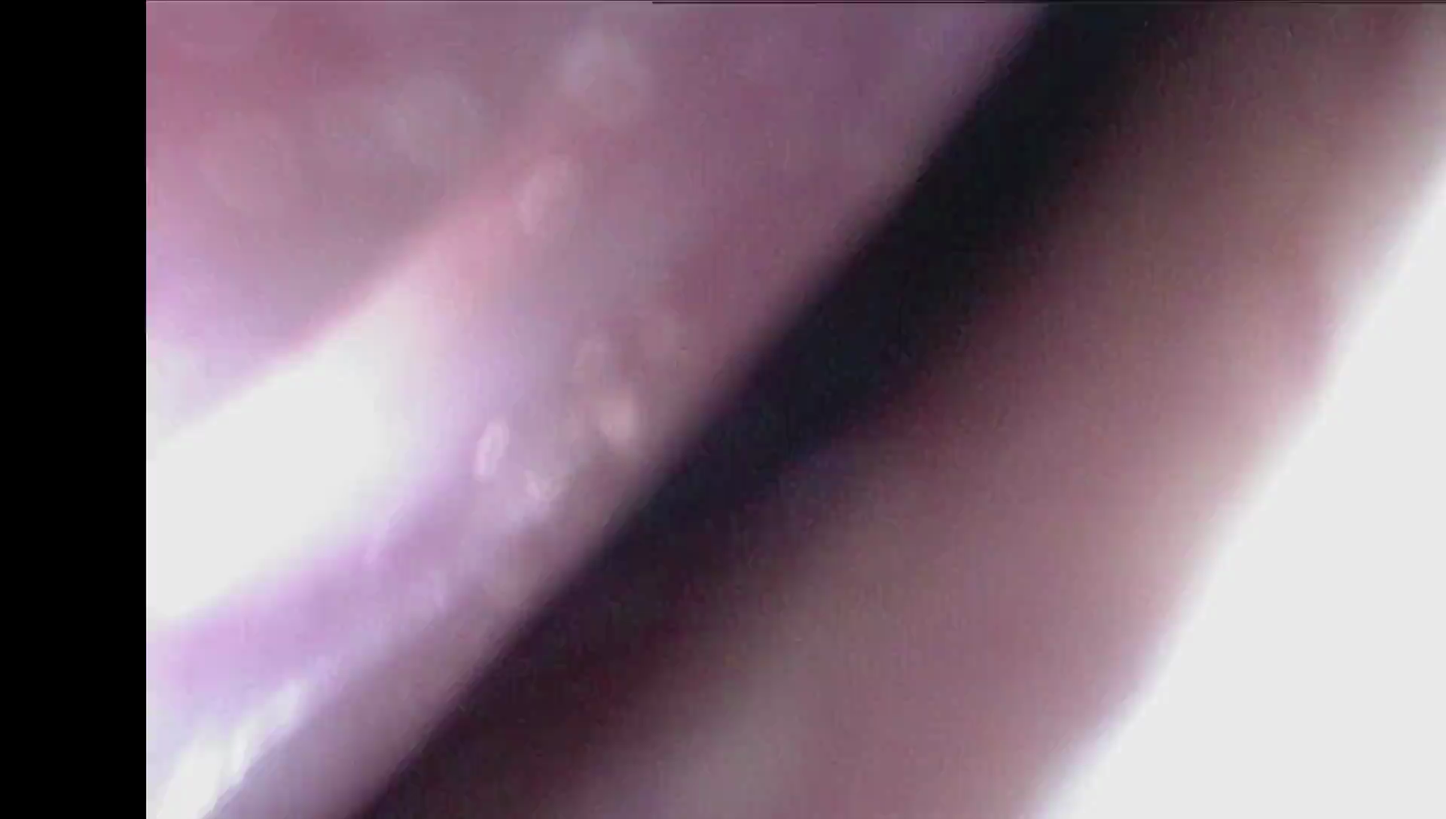close_wall: (152, 8, 587, 767), (1057, 245, 1446, 819)
next: (629, 0, 1223, 575)
